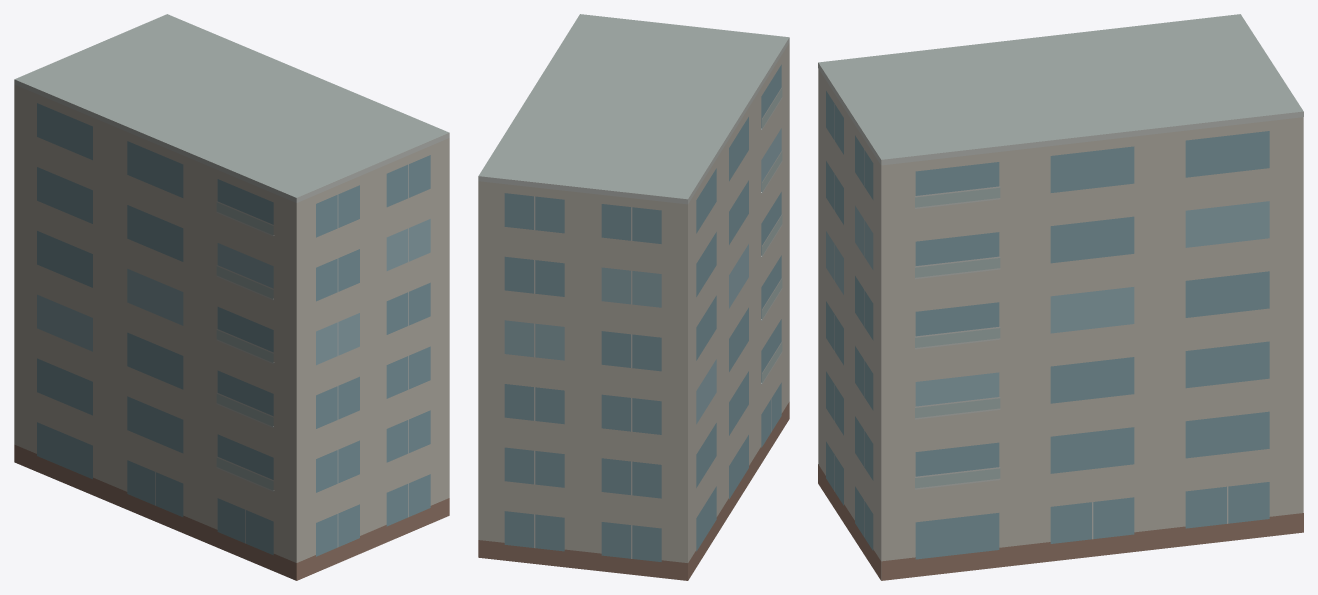
File: survey-upis-33047199.glb
The picture shows the model from 3 angles, left to right: view 1: azimuth 30°, elevation 25°; view 2: azimuth 150°, elevation 25°; view 3: azimuth 270°, elevation 25°; orthographic projection. The views are drawn at different scales.
Visible parts, largest first — view 1: survey-upis-33047199.tmp; view 2: survey-upis-33047199.tmp; view 3: survey-upis-33047199.tmp.
Boxes of the visible parts, bbox=[...] form: survey-upis-33047199.tmp: bbox=[14, 14, 449, 580]; survey-upis-33047199.tmp: bbox=[478, 14, 789, 580]; survey-upis-33047199.tmp: bbox=[818, 14, 1303, 580].
Bounding box in the file's own units: 13.53 × 18.2 × 19.04.
